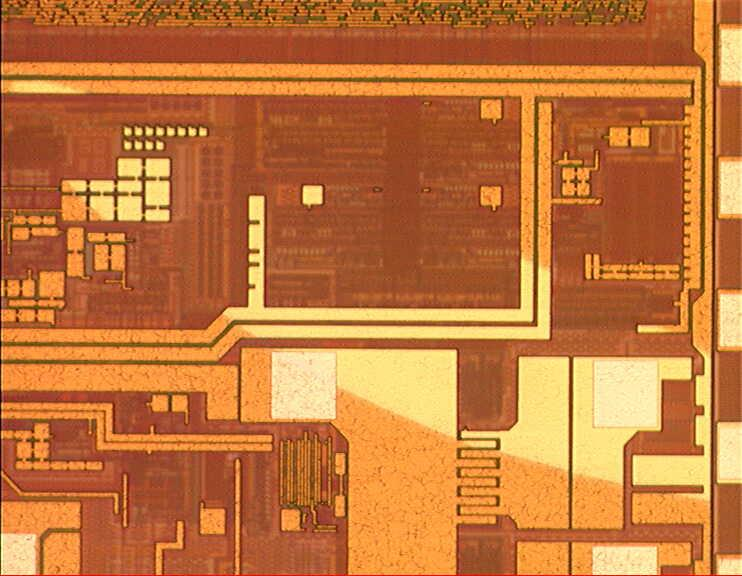BLOCK ETCH: (1, 67, 737, 517)
